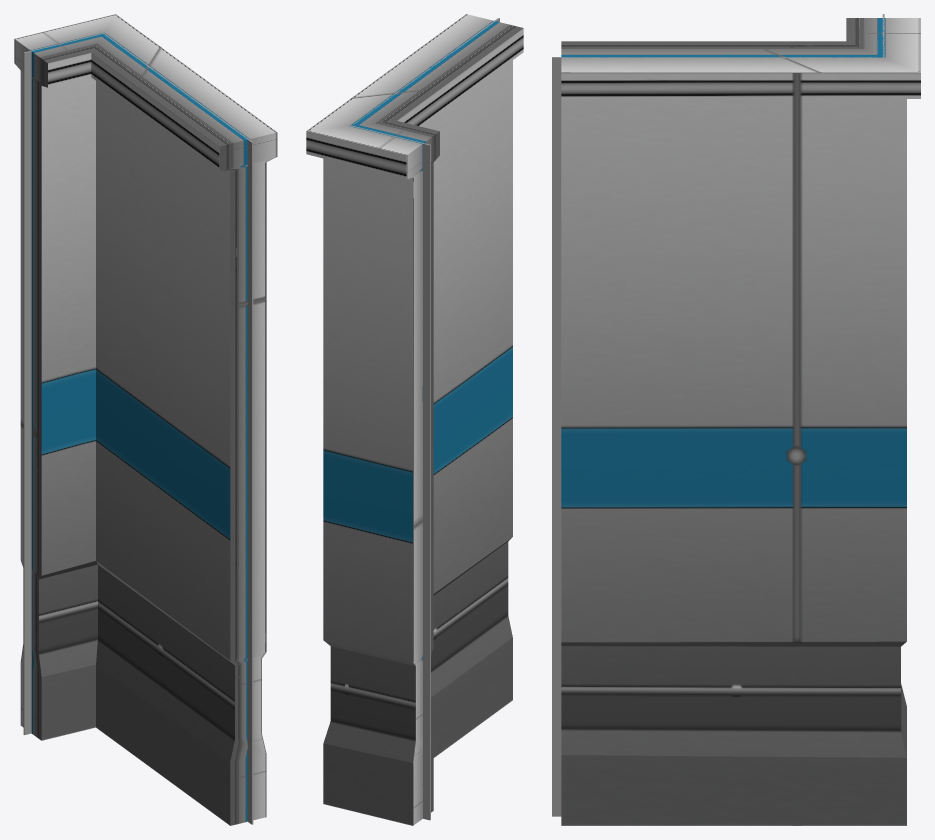
The model's file is CRL_SM_LU_BB.fbx.
3 views of the same model, side by side, from view 1: azimuth 30°, elevation 25°; view 2: azimuth 150°, elevation 25°; view 3: azimuth 270°, elevation 25° (orthographic). The views are drawn at different scales.
Visible parts, largest first — view 1: CRL_SM_LU_BB; view 2: CRL_SM_LU_BB; view 3: CRL_SM_LU_BB.
Part boxes in pixels (x1=…): CRL_SM_LU_BB: x1=14, y1=14, x2=277, y2=825; CRL_SM_LU_BB: x1=306, y1=14, x2=523, y2=825; CRL_SM_LU_BB: x1=552, y1=14, x2=920, y2=825.
Bounding box in the file's own units: 0.751 × 4.5 × 1.98.
